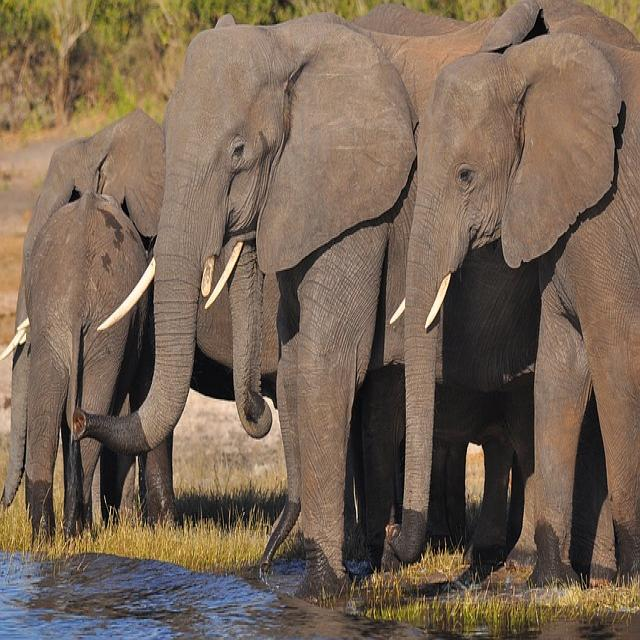FIL: (81, 9, 563, 579), (384, 65, 640, 601)
